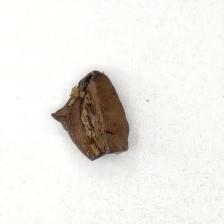NG: (51, 69, 108, 117), (87, 142, 130, 162)
